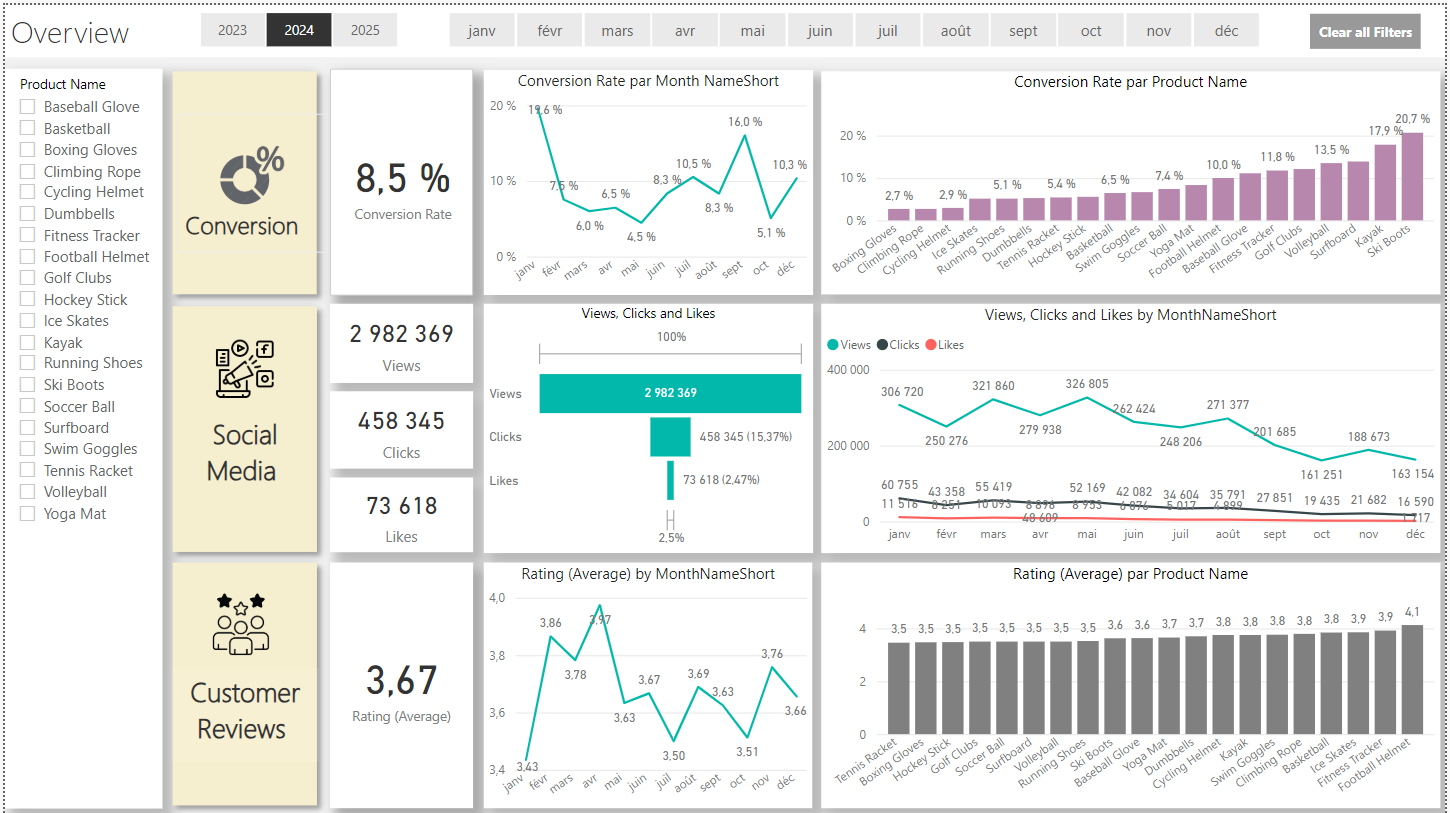

The dashboard page shown, as its layout file describes it:
{"tool":"powerbi","page":{"name":"Overview ","canvas":[1280,720],"ordinal":0},"visuals":[{"type":"card","fields":{"Values":["_Calculations.Conversion Rate"]},"box":[288.8,56.2,127.5,201.2],"z":0},{"type":"slicer","title":"Product Name","fields":{"Values":["dim_products.ProductName"]},"box":[0,56.2,140,657.5],"z":1000},{"type":"card","fields":{"Values":["_Calculations.Views"]},"box":[288.8,265,127.5,70],"z":2000},{"type":"card","fields":{"Values":["_Calculations.Clicks"]},"box":[288.8,343.8,127.5,68.8],"z":3000},{"type":"card","fields":{"Values":["_Calculations.Likes"]},"box":[288.8,420,127.5,66.2],"z":4000},{"type":"card","fields":{"Values":["_Calculations.Rating (Average)"]},"box":[288.8,495,127.5,218.8],"z":5000},{"type":"lineChart","title":"Conversion Rate par Month NameShort","fields":{"Y":["_Calculations.Conversion Rate"],"Category":["Calendar.MonthNameShort"]},"box":[425,57.5,292.5,200],"z":6000},{"type":"columnChart","title":"Conversion Rate par Product Name","fields":{"Category":["dim_products.ProductName"],"Y":["_Calculations.Conversion Rate"]},"box":[725,58.8,550,198.8],"z":7000},{"type":"funnel","fields":{"Y":["_Calculations.Views","_Calculations.Clicks","_Calculations.Likes"]},"box":[425,265,292.5,221.2],"z":8000},{"type":"actionButton","box":[140,486.2,146.2,233.8],"z":9000},{"type":"actionButton","box":[140,258.8,146.2,236.2],"z":10000},{"type":"actionButton","box":[140.1,49.9,146,216.1],"z":11000},{"type":"textbox","box":[0,0,1280,46.3],"z":12000},{"type":"textbox","box":[147.5,175,131.2,43.8],"z":13000},{"type":"textbox","box":[147.5,360,131.2,75],"z":14000},{"type":"textbox","box":[147.5,588.8,131.2,83.8],"z":15000},{"type":"lineChart","fields":{"Category":["Calendar.MonthNameShort"],"Y":["_Calculations.Rating (Average)"]},"box":[425.1,495.1,292.1,218.5],"z":16000},{"type":"lineChart","fields":{"Y":["_Calculations.Views","_Calculations.Clicks","_Calculations.Likes"],"Category":["Calendar.MonthNameShort"]},"box":[725,265,550,221.2],"z":17000},{"type":"clusteredColumnChart","title":"Rating (Average) par Product Name","fields":{"Category":["dim_products.ProductName"],"Y":["_Calculations.Rating (Average)"]},"box":[725,495,550,218.8],"z":18000},{"type":"slicer","fields":{"Values":["Calendar.Year"]},"box":[147.5,0,225,43.8],"z":19000},{"type":"slicer","fields":{"Values":["Calendar.MonthNameShort"]},"box":[368.8,0,770,43.8],"z":20000},{"type":"actionButton","box":[1160,7.5,98.8,31.2],"z":21000},{"type":"image","box":[181.7,287.3,64.1,72.4],"z":22000},{"type":"image","box":[150.8,495.1,118.7,124.7],"z":23000},{"type":"image","box":[153.8,96.2,132.5,123.8],"z":24000}]}

Visuals, with their boxes in screenshot pixels (x1, y1, x2, y2), scaled from the page's 1280x720 canvas onto the 1450x813 screenshot:
card - _Calculations.Conversion Rate: rect(327, 63, 472, 291)
"Product Name" slicer: rect(0, 63, 159, 806)
card - _Calculations.Views: rect(327, 299, 472, 378)
card - _Calculations.Clicks: rect(327, 388, 472, 466)
card - _Calculations.Likes: rect(327, 474, 472, 549)
card - _Calculations.Rating (Average): rect(327, 559, 472, 806)
"Conversion Rate par Month NameShort" lineChart: rect(481, 65, 813, 291)
"Conversion Rate par Product Name" columnChart: rect(821, 66, 1444, 291)
funnel - _Calculations.Views x _Calculations.Clicks: rect(481, 299, 813, 549)
actionButton: rect(159, 549, 324, 812)
actionButton: rect(159, 292, 324, 559)
actionButton: rect(159, 56, 324, 300)
textbox: rect(0, 0, 1449, 52)
textbox: rect(167, 198, 316, 247)
textbox: rect(167, 406, 316, 491)
textbox: rect(167, 665, 316, 759)
lineChart - Calendar.MonthNameShort x _Calculations.Rating (Average): rect(482, 559, 812, 806)
lineChart - _Calculations.Views x _Calculations.Clicks: rect(821, 299, 1444, 549)
"Rating (Average) par Product Name" clusteredColumnChart: rect(821, 559, 1444, 806)
slicer - Calendar.Year: rect(167, 0, 422, 49)
slicer - Calendar.MonthNameShort: rect(418, 0, 1290, 49)
actionButton: rect(1314, 8, 1426, 44)
image: rect(206, 324, 278, 406)
image: rect(171, 559, 305, 700)
image: rect(174, 109, 324, 248)
